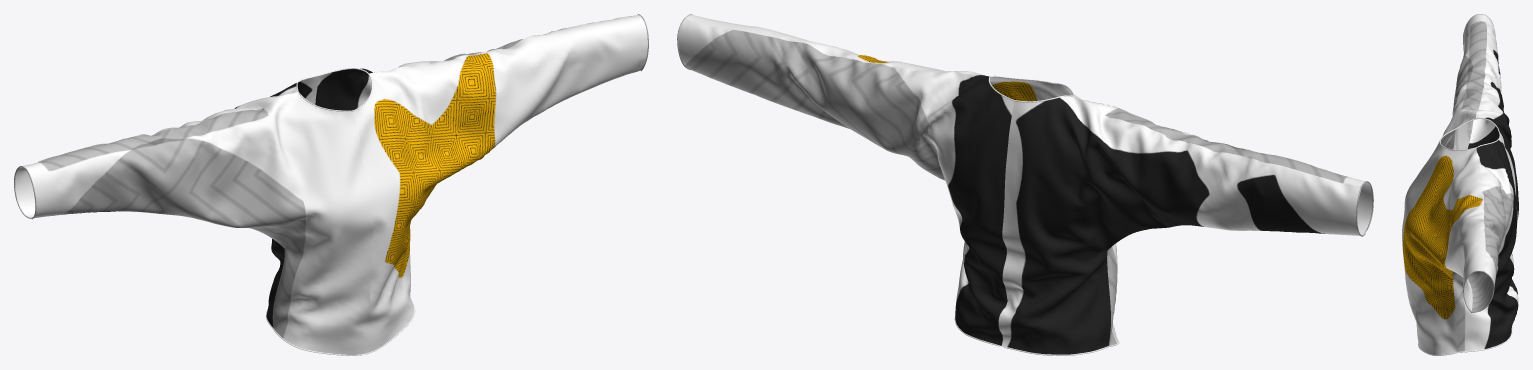
File: Quad.fbx
The picture shows the model from 3 angles, left to right: view 1: azimuth 30°, elevation 25°; view 2: azimuth 150°, elevation 25°; view 3: azimuth 270°, elevation 25°; orthographic projection. The views are drawn at different scales.
Visible parts, largest first — view 1: Quad; view 2: Quad; view 3: Quad.
Boxes of the visible parts, left/top/right/bottom form: Quad: left=14, top=14, right=648, bottom=355; Quad: left=677, top=14, right=1373, bottom=355; Quad: left=1402, top=14, right=1518, bottom=355.
Bounding box in the file's own units: 133 × 50.99 × 25.29.
